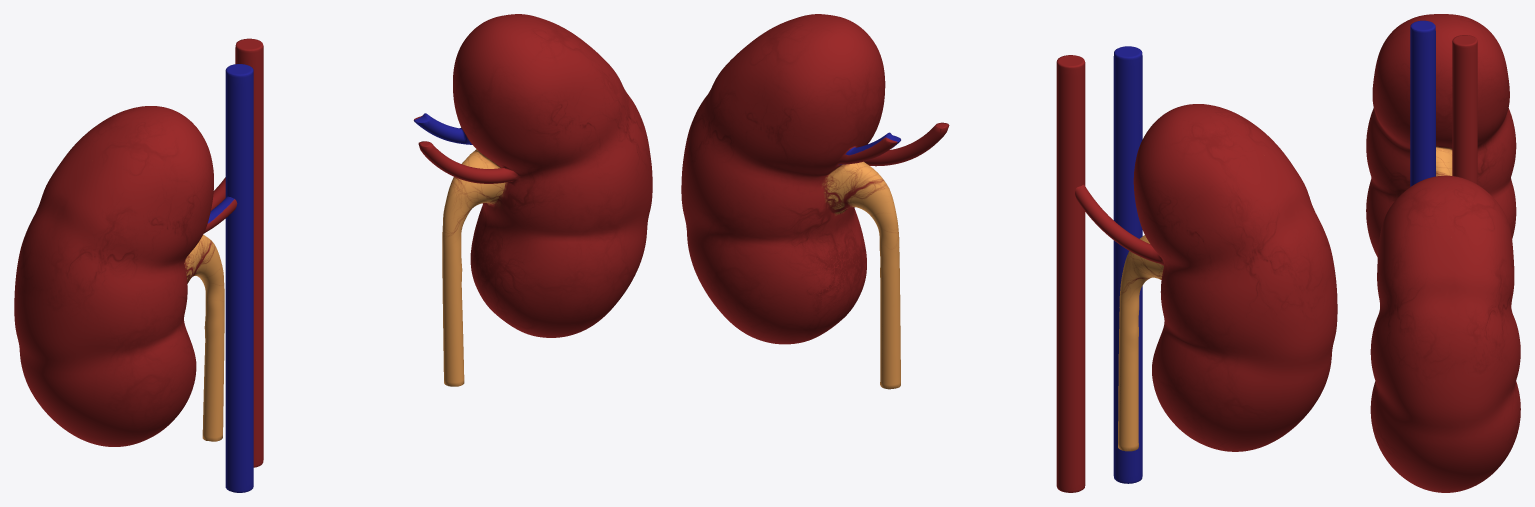
File: kidneys.glb
3 renders of one model, left to right at view 1: azimuth 30°, elevation 25°; view 2: azimuth 150°, elevation 25°; view 3: azimuth 270°, elevation 25°, orthographic. The views are drawn at different scales.
Parts seen in each view (by area): view 1: kidney02:kidney03:Group12708, Group12708; view 2: kidney02:kidney03:Group12708, Group12708; view 3: Group12708, kidney02:kidney03:Group12708.
Part boxes in pixels (x1=…): kidney02:kidney03:Group12708: x1=14, y1=38, x2=263, y2=492; Group12708: x1=413, y1=14, x2=652, y2=386; kidney02:kidney03:Group12708: x1=1056, y1=46, x2=1337, y2=492; Group12708: x1=681, y1=14, x2=949, y2=389; Group12708: x1=1370, y1=175, x2=1520, y2=492; kidney02:kidney03:Group12708: x1=1366, y1=14, x2=1516, y2=257.
Size of the model in its own units: 6.7 by 4.32 by 1.6.
1 material, 1 textured.
